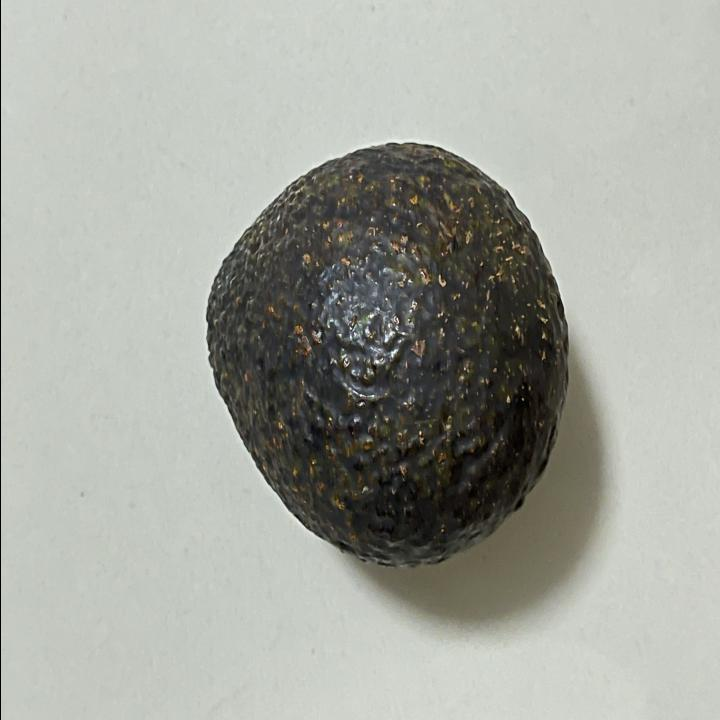Level1: (192, 121, 579, 594)
